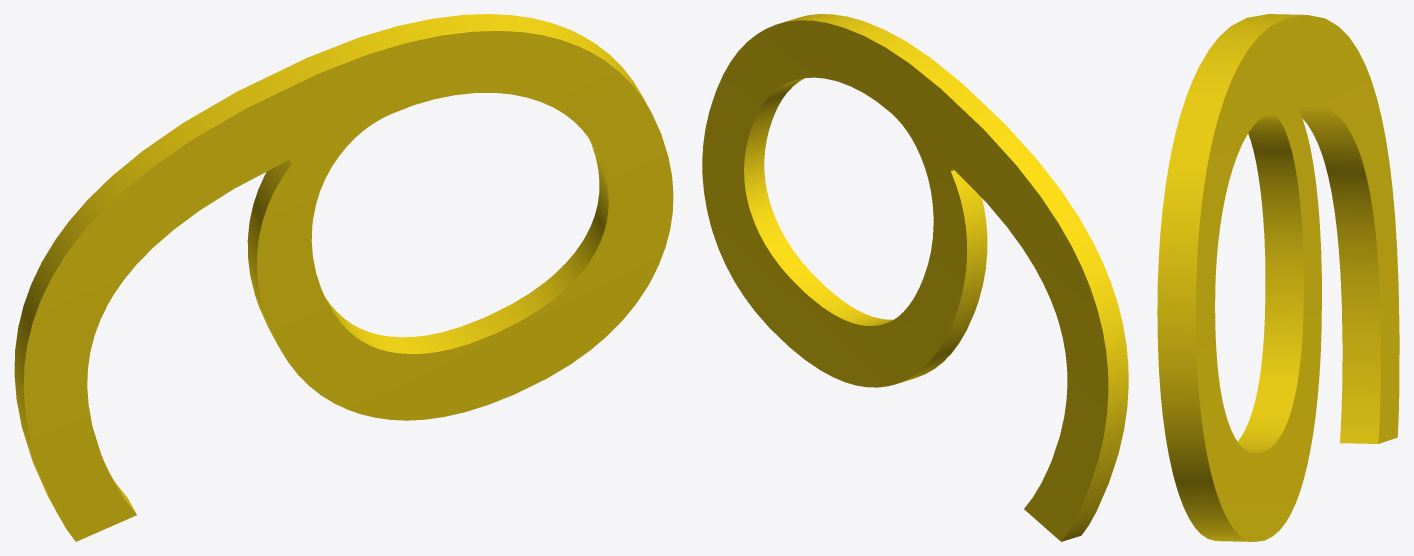
The model's file is Number_9.gltf.
The picture shows the model from 3 angles, left to right: view 1: azimuth 30°, elevation 25°; view 2: azimuth 150°, elevation 25°; view 3: azimuth 270°, elevation 25°; orthographic projection. The views are drawn at different scales.
Parts seen in each view (by area): view 1: Sub_5_Cell_3_3_Number_9; view 2: Sub_5_Cell_3_3_Number_9; view 3: Sub_5_Cell_3_3_Number_9.
Part boxes in pixels (<box>): Sub_5_Cell_3_3_Number_9: <box>14,14,673,541</box>; Sub_5_Cell_3_3_Number_9: <box>702,14,1128,541</box>; Sub_5_Cell_3_3_Number_9: <box>1157,14,1399,541</box>.
Bounding box in the file's own units: 0.0243 × 0.0196 × 0.00771.
